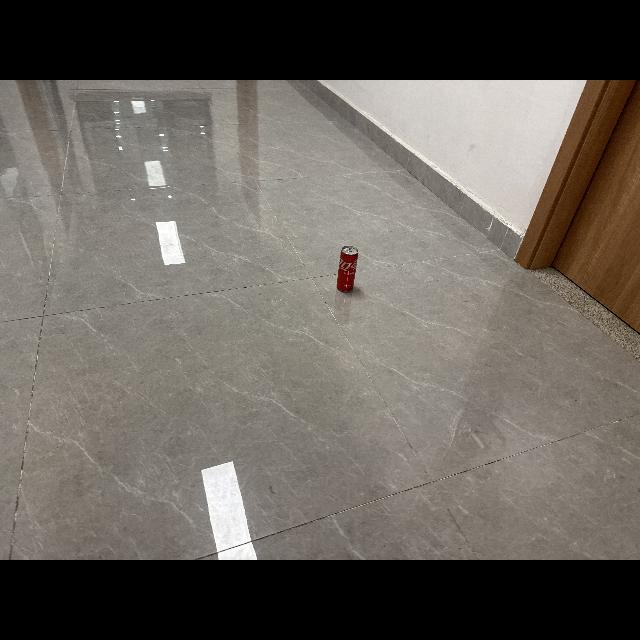Cola: (333, 241, 363, 297)
